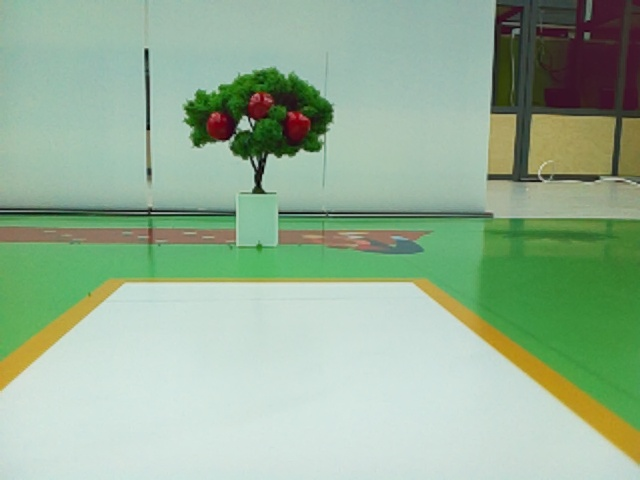apple: (287, 111, 311, 139), (248, 93, 273, 118), (207, 112, 228, 139)
